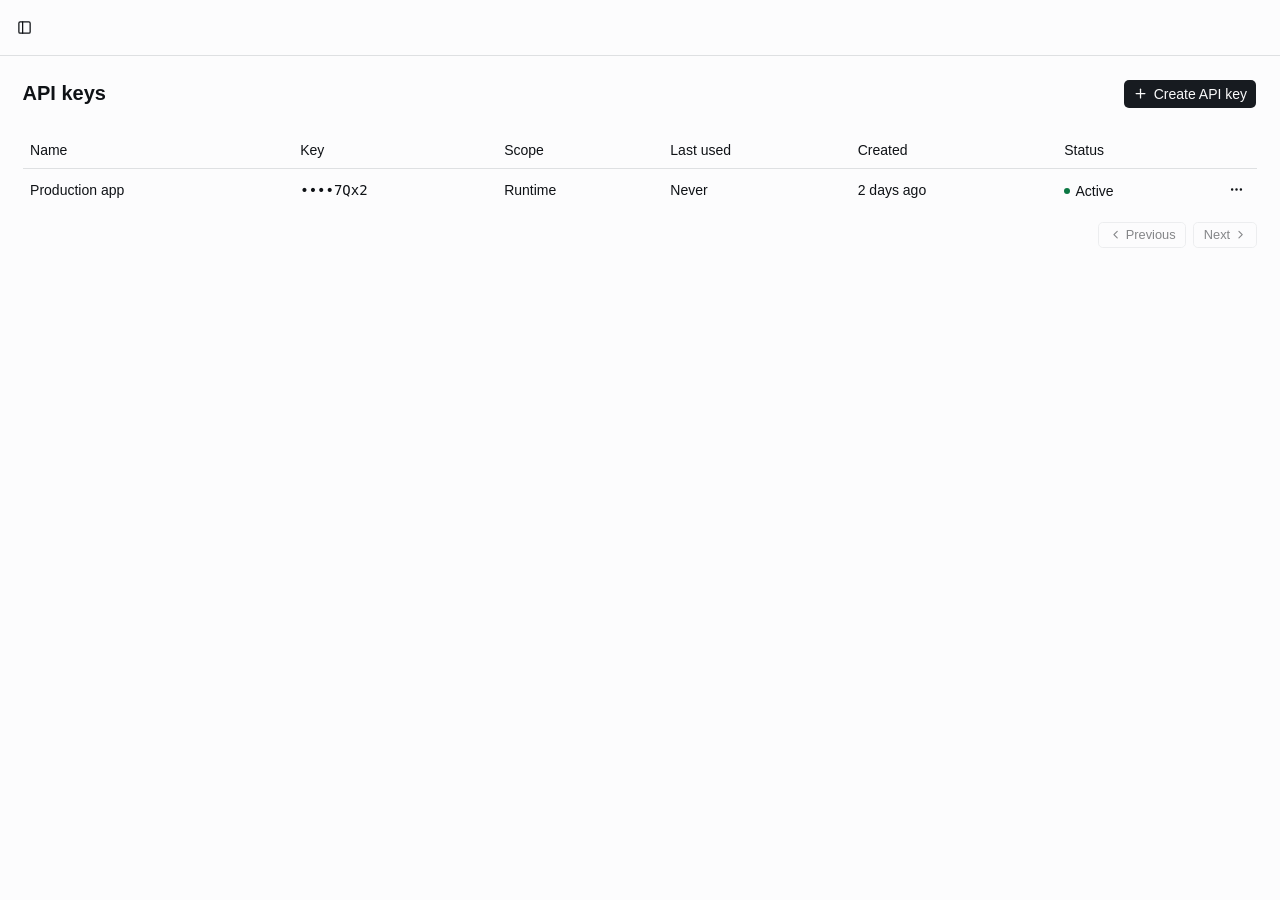
Test: an empty name shows its rule and sends nothing
The width and height of the screenshot is (1280, 900).
Click the button "Create API key" at point(1190, 94), box [1123, 78, 1257, 109]
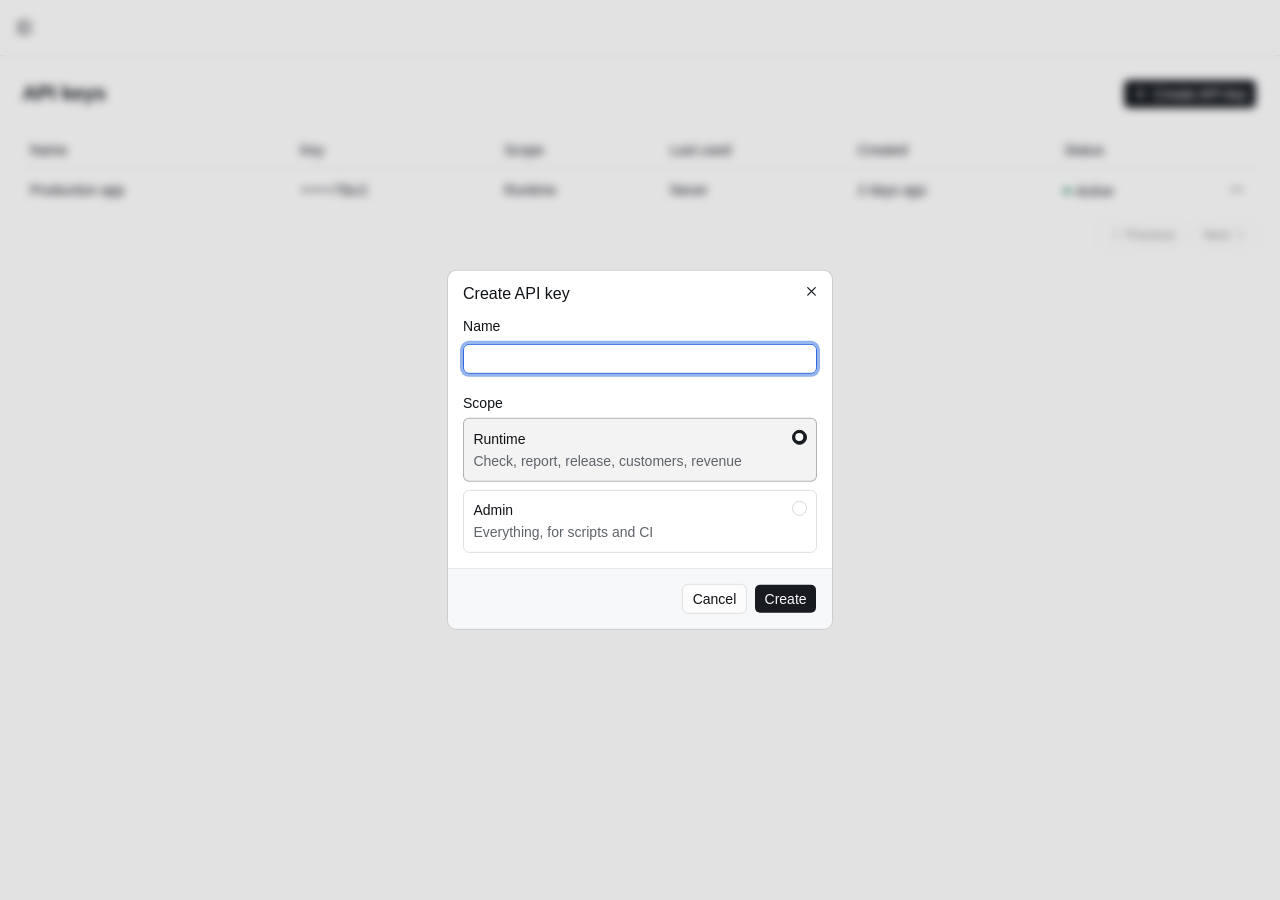
Click the button "Create" at point(786, 599), box [754, 584, 817, 614]
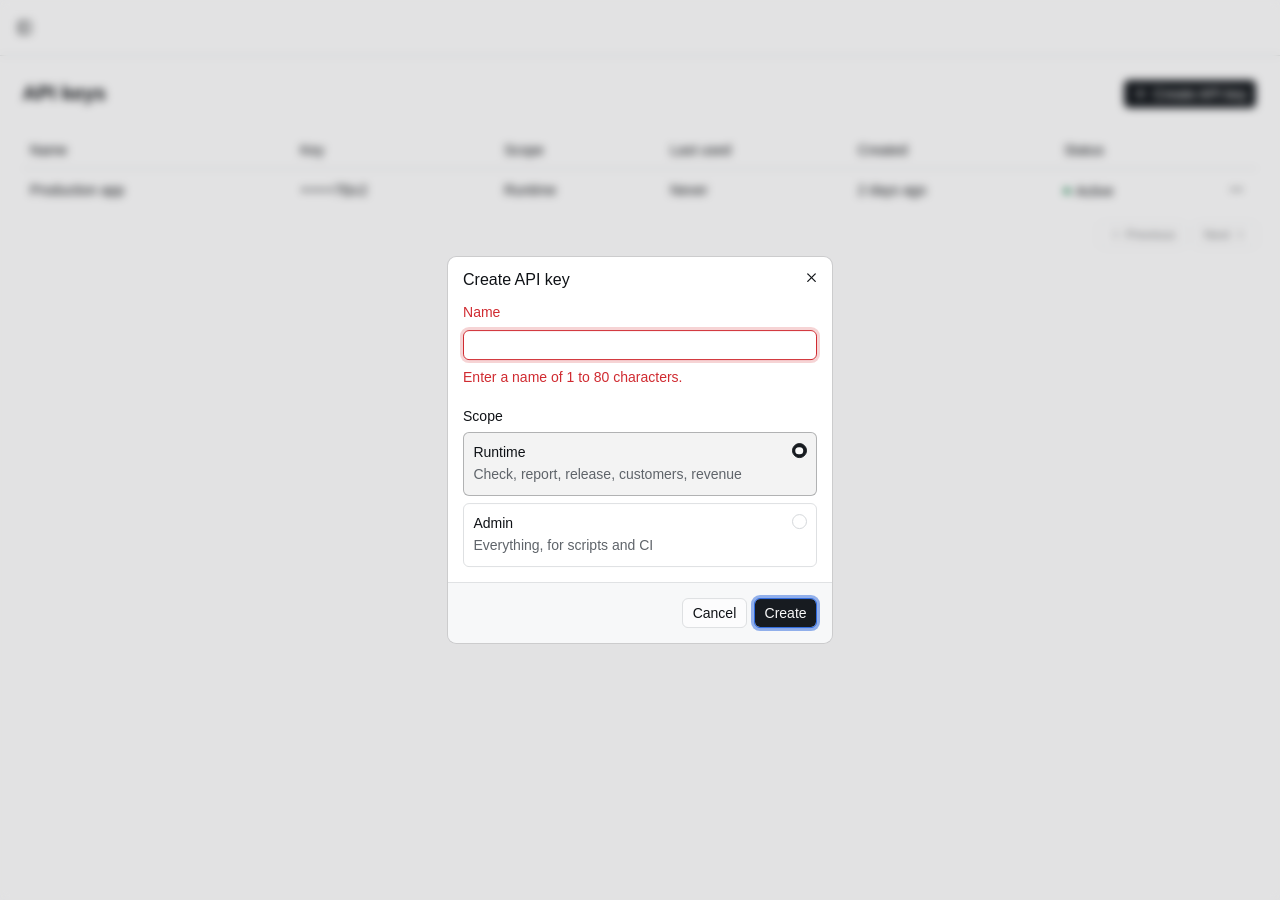
Expected: the text "Enter a name of 1 to 80 characters." is shown, [463, 370, 682, 386]
